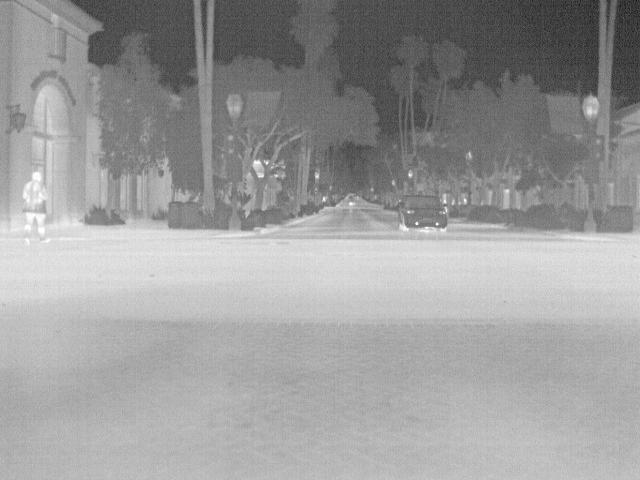car: (397, 195, 448, 231)
person: (22, 168, 53, 248)
